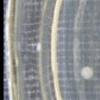white: (79, 65, 94, 80)
